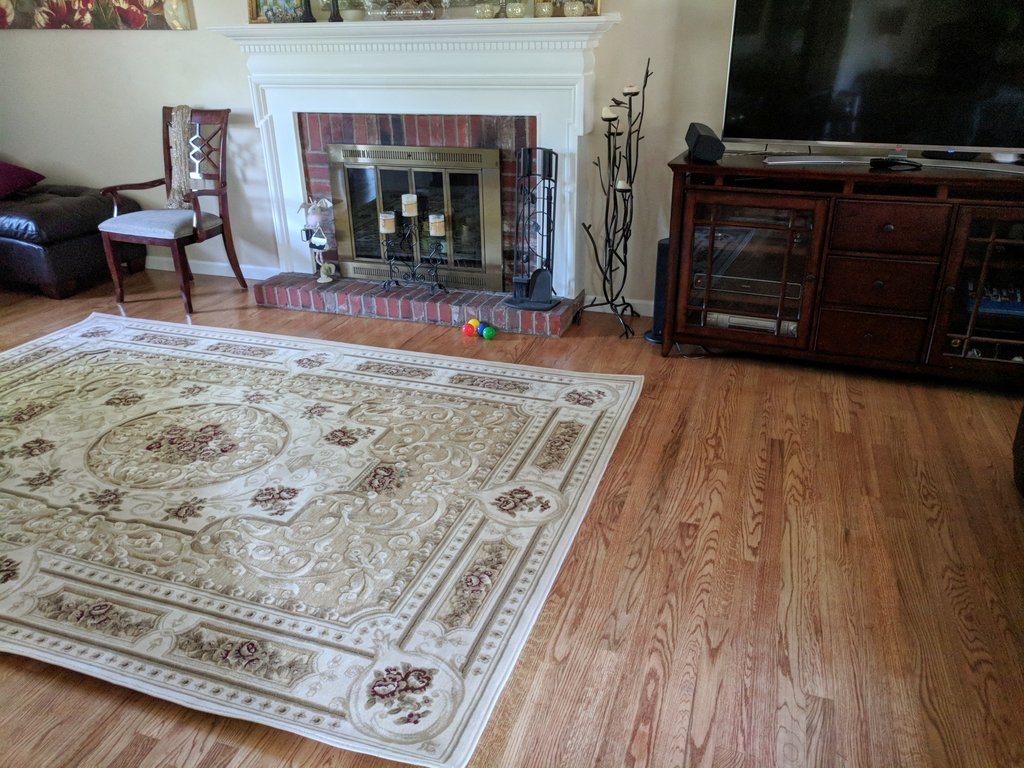ball: (477, 323, 486, 335)
